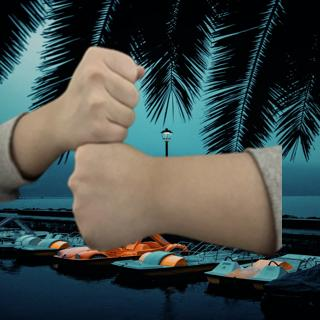CAREFUL: (24, 45, 283, 257)
